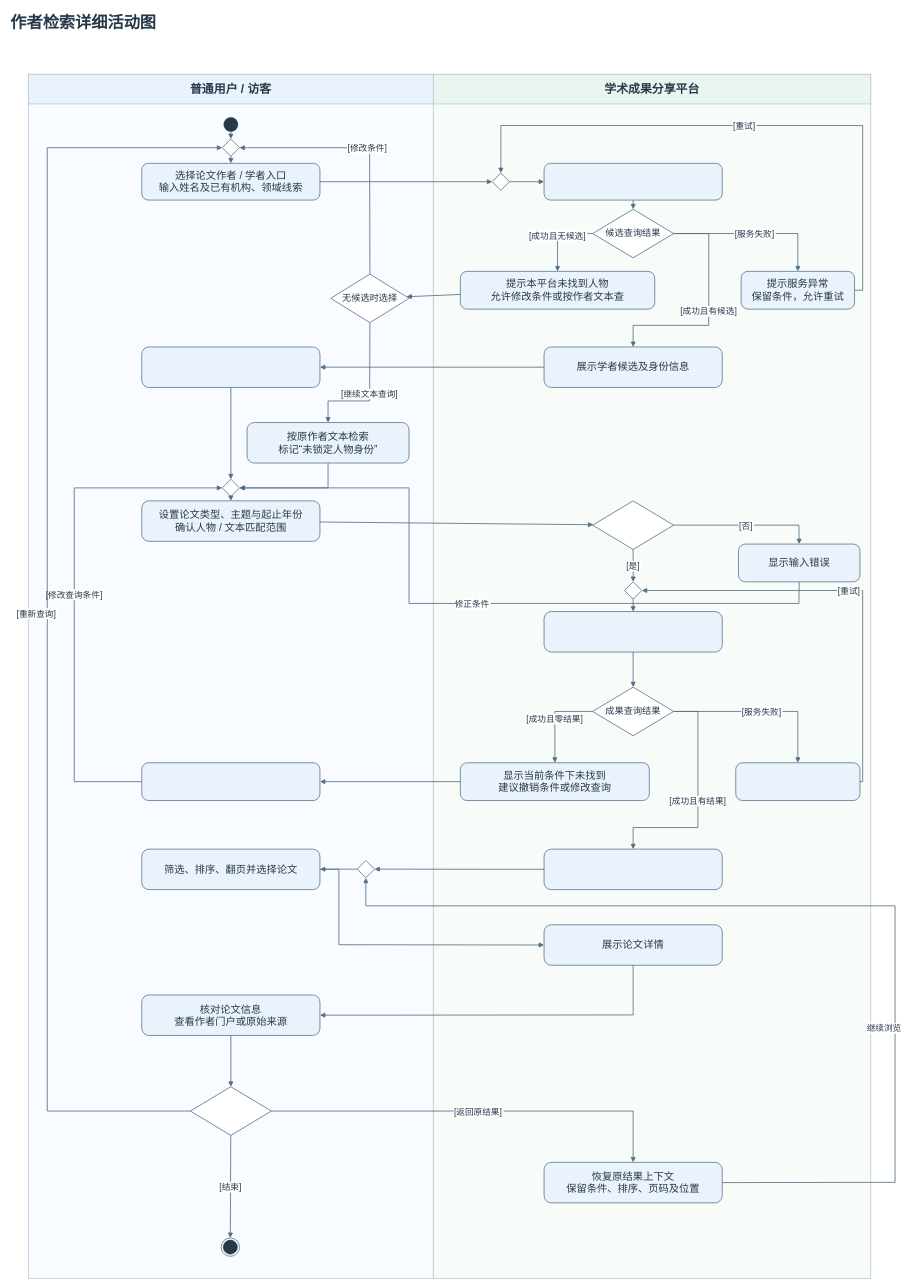
Some shapes in this 911 by 1288 pixel diagram are drawn without their labels. The shapes that lost their labels are listed below. From the top down, each one's centre as x and y in pixels, then its label:
At pixel 632 181: "查询人物候选 保留原输入".
At pixel 230 367: "核对身份信息并选择目标学者".
At pixel 633 525: "条件有效？".
At pixel 632 631: "按人物、主题和年份查询论文".
At pixel 230 781: "修改 / 放宽条件 或切换检索对象".
At pixel 797 781: "提示查询失败 保留输入，可重试".
At pixel 632 869: "展示去重结果、命中字段和总数".
At pixel 231 1111: "下一步".
